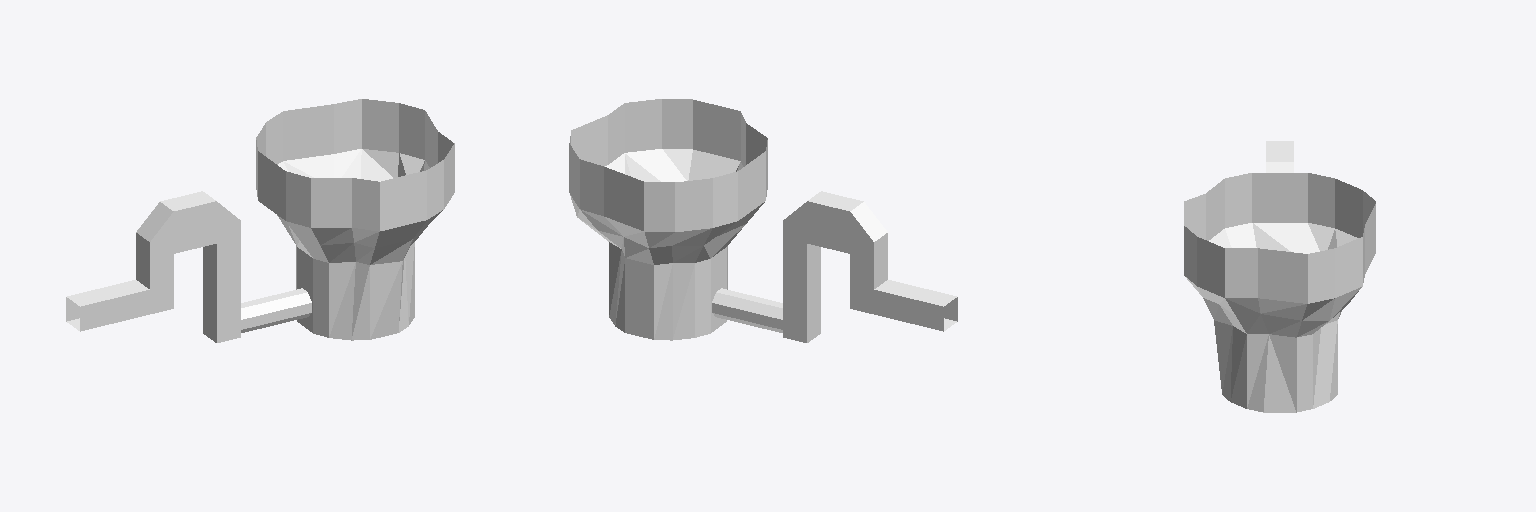
The model's file is Dire Dire Docks Area 1.obj.
3 renders of one model, left to right at view 1: azimuth 30°, elevation 25°; view 2: azimuth 150°, elevation 25°; view 3: azimuth 270°, elevation 25°, orthographic.
Size of the model in its own units: 31384 by 14948 by 14334.